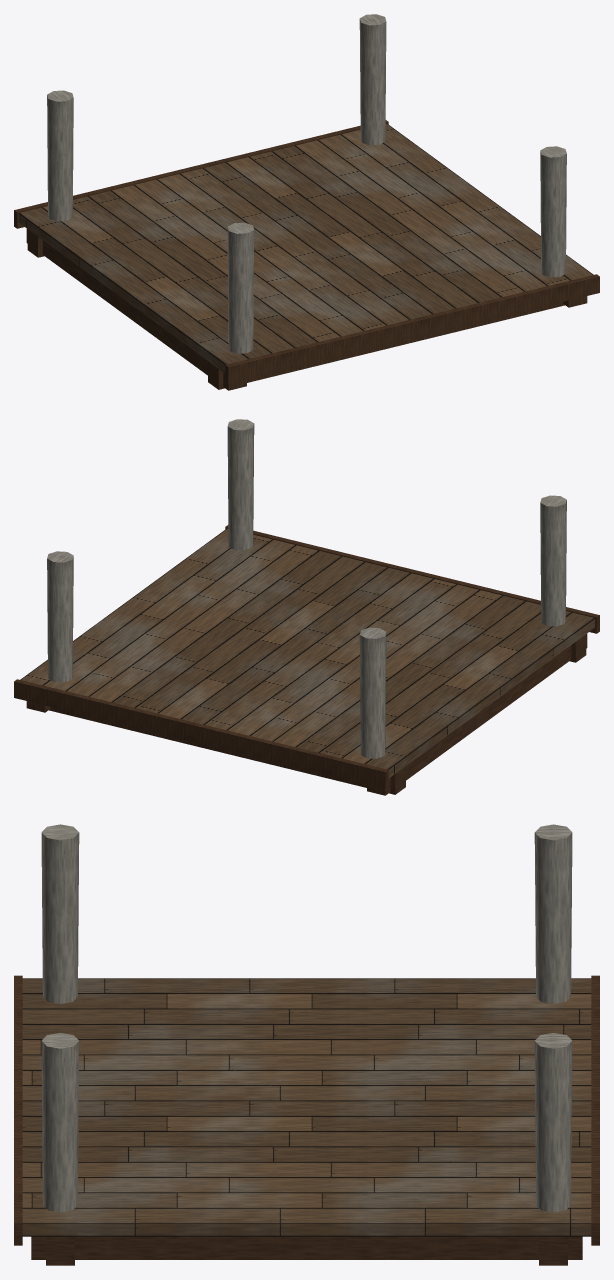
File: SM_Art_Pier_400x400x100_P-125.gltf
The picture shows the model from 3 angles, top to bottom: view 1: azimuth 30°, elevation 25°; view 2: azimuth 150°, elevation 25°; view 3: azimuth 270°, elevation 25°; orthographic projection. The views are drawn at different scales.
Visible parts, largest first — view 1: SM_Art_Pier_400x400x100_P-125; view 2: SM_Art_Pier_400x400x100_P-125; view 3: SM_Art_Pier_400x400x100_P-125.
Boxes of the visible parts, x1=… form: SM_Art_Pier_400x400x100_P-125: x1=14, y1=14, x2=599, y2=390; SM_Art_Pier_400x400x100_P-125: x1=14, y1=419, x2=599, y2=795; SM_Art_Pier_400x400x100_P-125: x1=14, y1=824, x2=599, y2=1265.
Size of the model in its own units: 4.04 by 1.57 by 4.04.
Materials: 3 (3 with a texture image).
